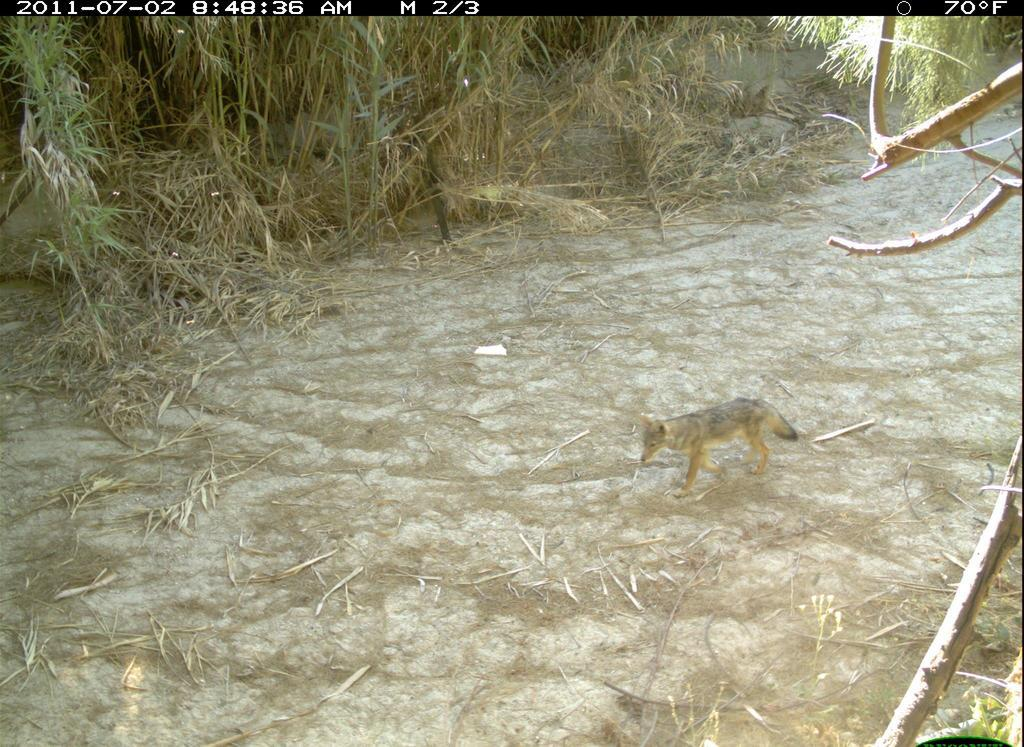coyote: (635, 393, 803, 495)
